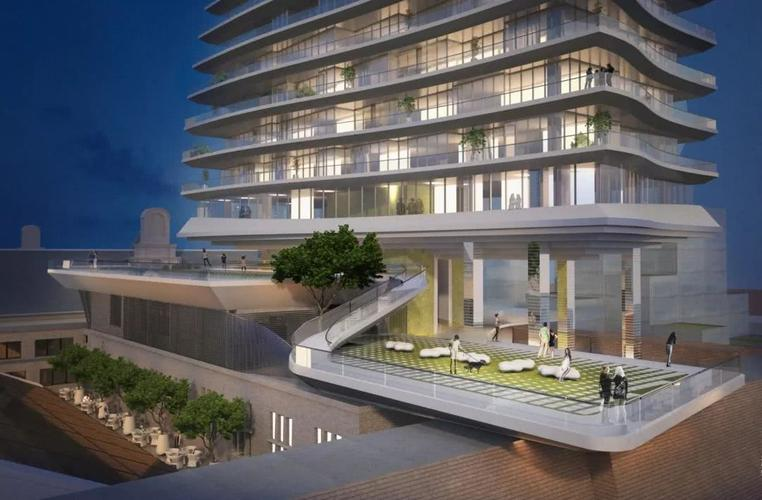buildings: (144, 19, 721, 261)
